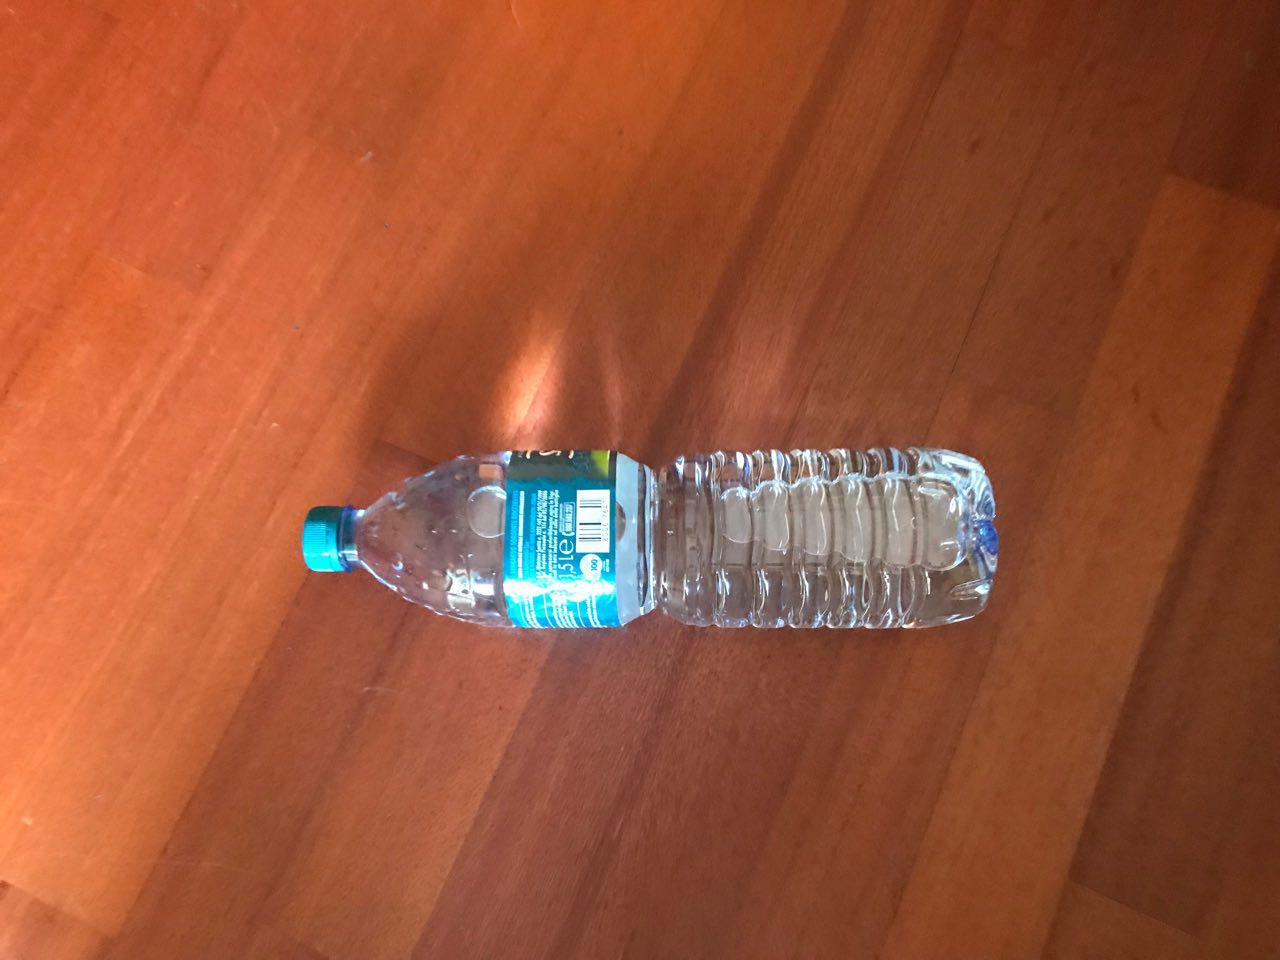san_bernardo: (299, 444, 999, 632)
